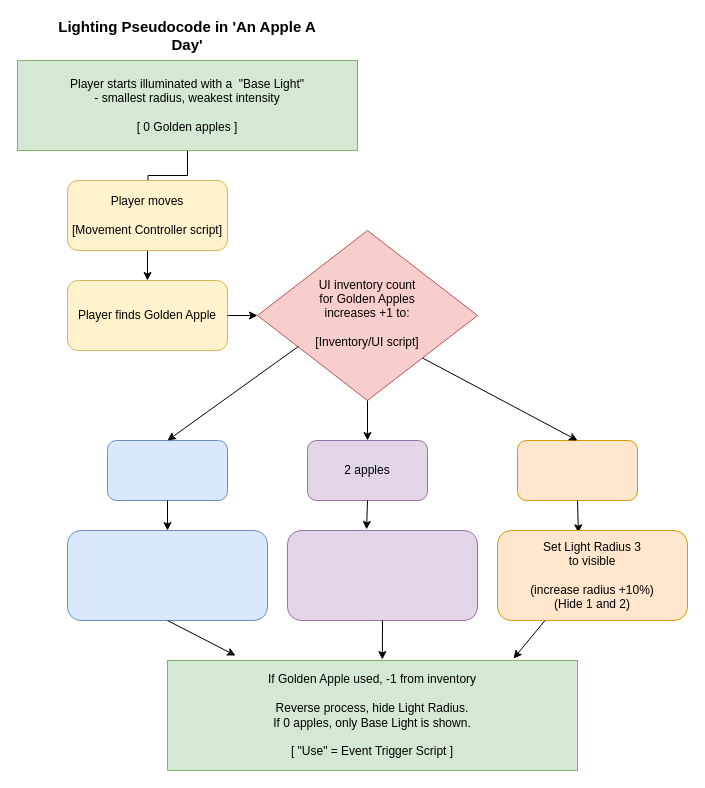
Image size: 705x788. Some labels were removed from this diagram. The centre of each missing label's shape, as x and y in pixels:
"1 apple" belongs at [167,470].
"3 apples" belongs at [577,470].
"Set Light Radius 1 to visible (increase radius +10%) (Hide 2 and 3)" belongs at [167,575].
"Set Light Radius 2 to visible (increase radius +10%) (Hide 1 and 3)" belongs at [382,575].
